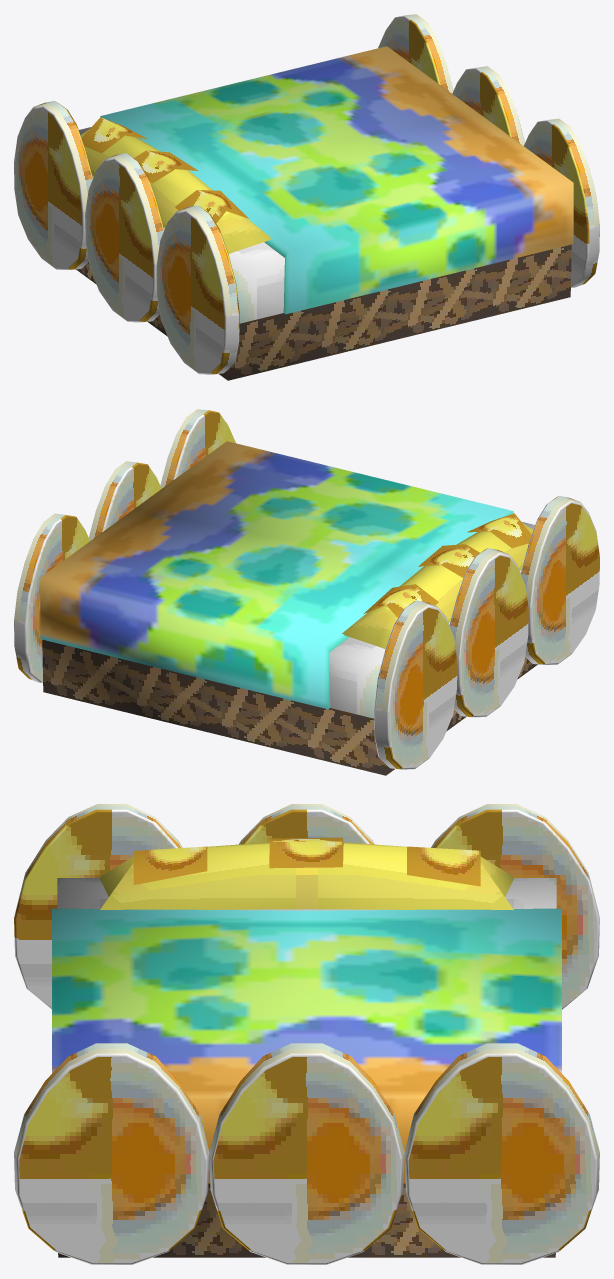
Rendered from int_egg_bedW.dae.
3 views of the same model, one above another, from view 1: azimuth 30°, elevation 25°; view 2: azimuth 150°, elevation 25°; view 3: azimuth 270°, elevation 25° (orthographic). The views are drawn at different scales.
Visible parts, largest first — view 1: int_egg_bedW; view 2: int_egg_bedW; view 3: int_egg_bedW.
Boxes of the visible parts, box(x1,y1,x2,y2) form: int_egg_bedW: box(14, 14, 599, 380); int_egg_bedW: box(14, 409, 599, 775); int_egg_bedW: box(14, 804, 599, 1264).
Bounding box in the file's own units: 57.6 × 23.2 × 57.
Materials: 3 (3 with a texture image).
